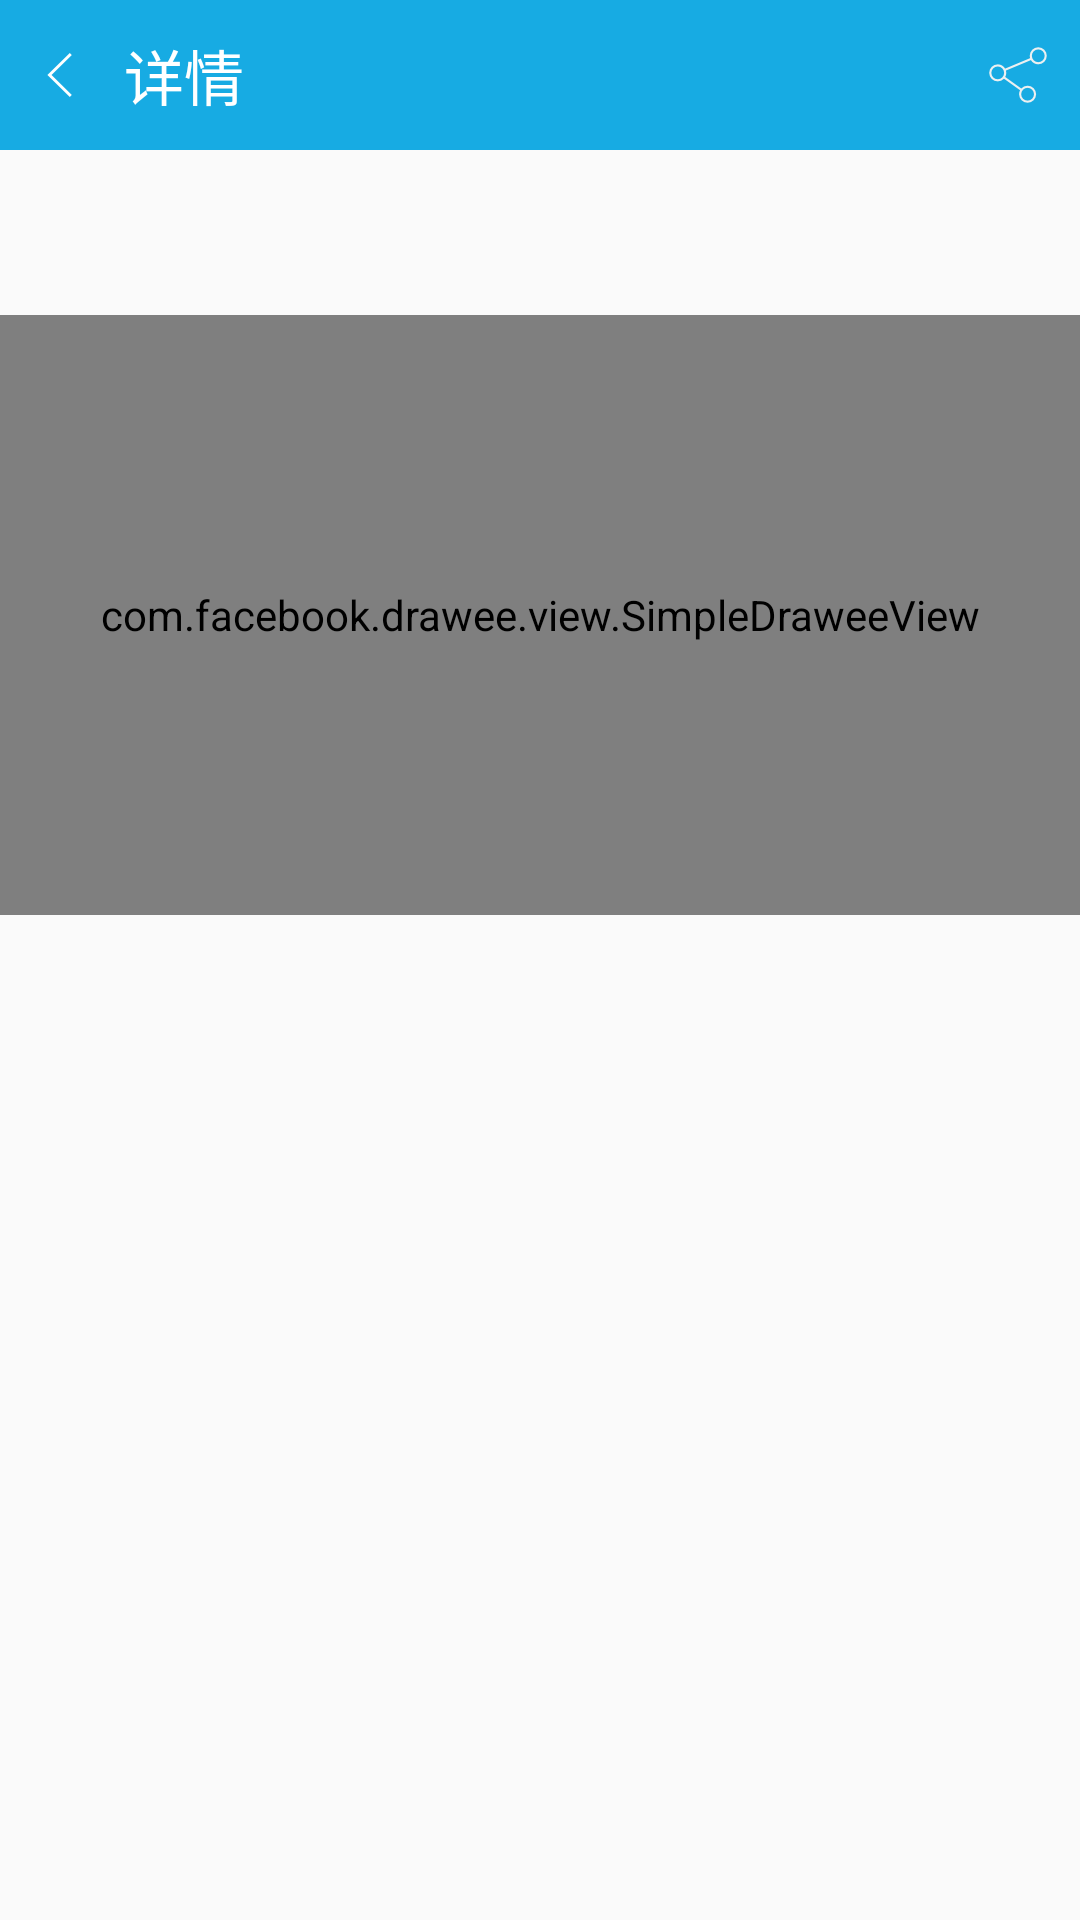

Where icons sit on this 1080 x 1920 app screen, as (x1, y1, x2, y2):
return: (47, 53, 72, 97)
share: (989, 47, 1047, 103)
